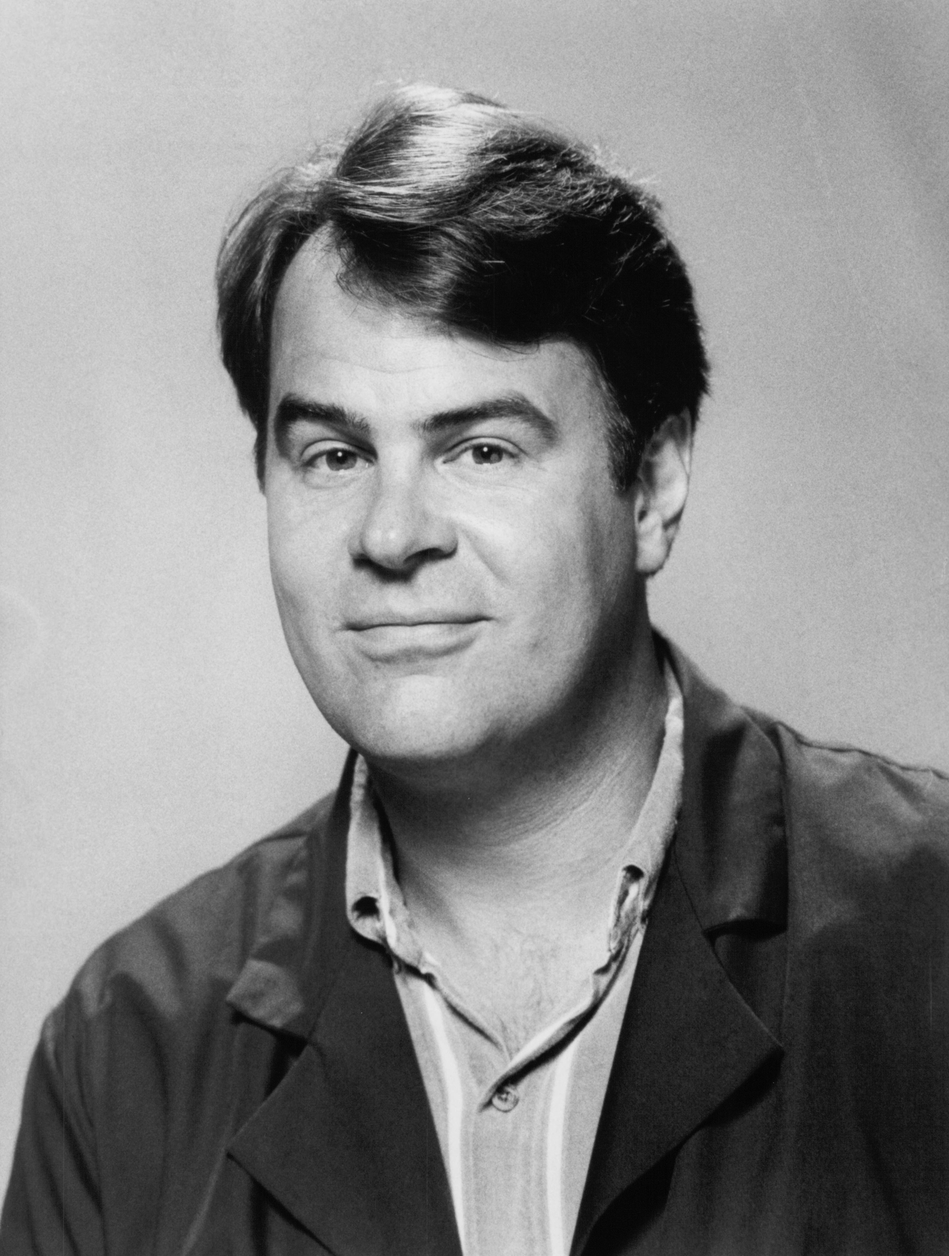42: (206, 208, 680, 825)
Coat: (2, 633, 947, 1256)
Male: (206, 208, 680, 825)
Shirt: (335, 648, 688, 1256)
